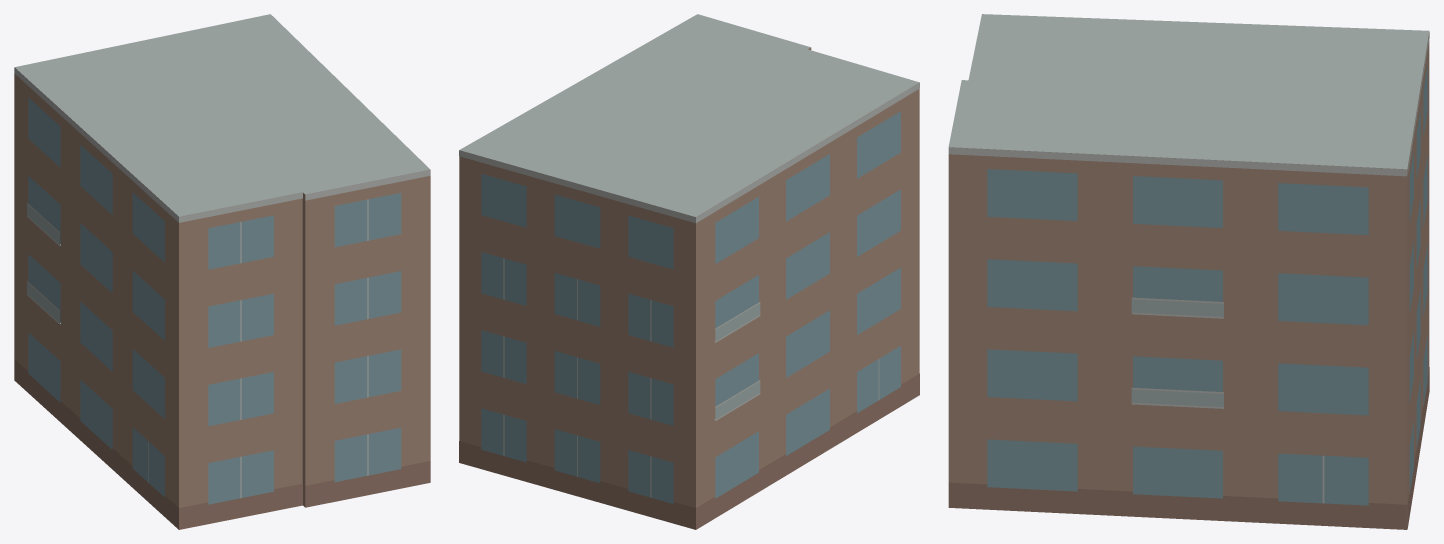
Rendered from survey-upis-32801013.glb.
The picture shows the model from 3 angles, left to right: view 1: azimuth 30°, elevation 25°; view 2: azimuth 150°, elevation 25°; view 3: azimuth 270°, elevation 25°; orthographic projection. The views are drawn at different scales.
Parts seen in each view (by area): view 1: survey-upis-32801013.tmp; view 2: survey-upis-32801013.tmp; view 3: survey-upis-32801013.tmp.
Boxes of the visible parts, x1,y1,x2,y2 form: survey-upis-32801013.tmp: [14, 14, 430, 529]; survey-upis-32801013.tmp: [459, 14, 919, 529]; survey-upis-32801013.tmp: [948, 14, 1429, 529].
Size of the model in its own units: 11.42 by 12.35 by 14.94.
